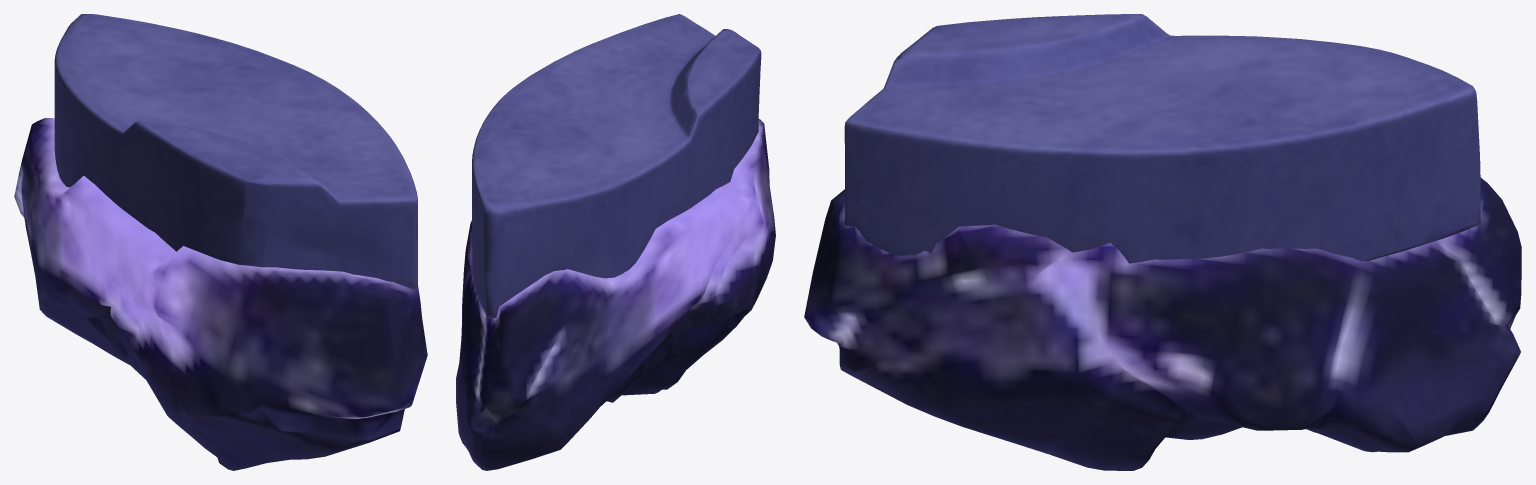
Rendered from sky_rock_02a3_nexus_v35.glb.
3 views of the same model, side by side, from view 1: azimuth 30°, elevation 25°; view 2: azimuth 150°, elevation 25°; view 3: azimuth 270°, elevation 25° (orthographic). The views are drawn at different scales.
Visible parts, largest first — view 1: rock_02a3; view 2: rock_02a3; view 3: rock_02a3.
Part boxes in pixels (x1,y1,x2,y2): rock_02a3: [14, 14, 427, 470]; rock_02a3: [456, 14, 775, 470]; rock_02a3: [804, 14, 1521, 470].
Bounding box in the file's own units: 13.93 × 19.24 × 31.51.
1 material, 1 textured.
